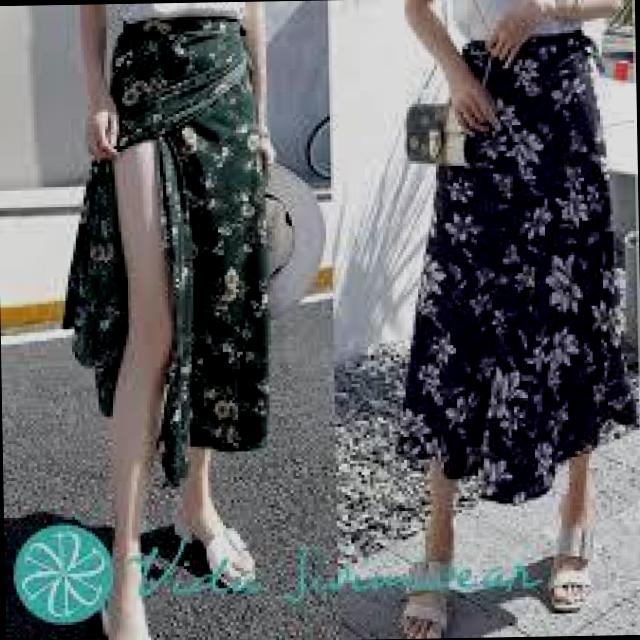skirt: (384, 38, 640, 503), (53, 18, 277, 471)
